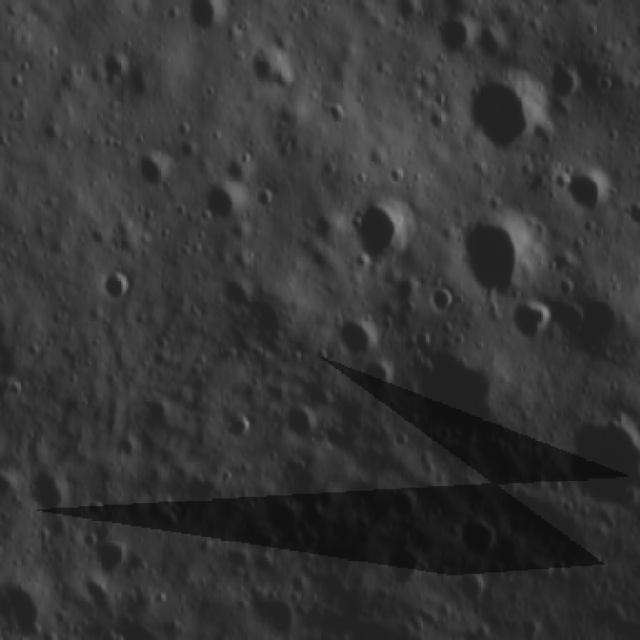crater: (550, 420, 633, 518), (458, 215, 530, 294), (467, 74, 544, 143), (359, 196, 410, 272), (571, 170, 614, 218), (335, 310, 380, 353), (456, 518, 510, 552), (200, 182, 242, 225), (514, 303, 564, 339), (449, 569, 491, 611), (547, 60, 590, 100), (186, 3, 240, 34), (432, 14, 476, 52), (132, 151, 171, 189), (94, 272, 138, 303), (93, 54, 127, 89), (226, 404, 256, 442), (362, 363, 402, 389), (433, 282, 456, 322), (256, 183, 282, 214), (323, 102, 352, 124), (425, 111, 449, 132)
